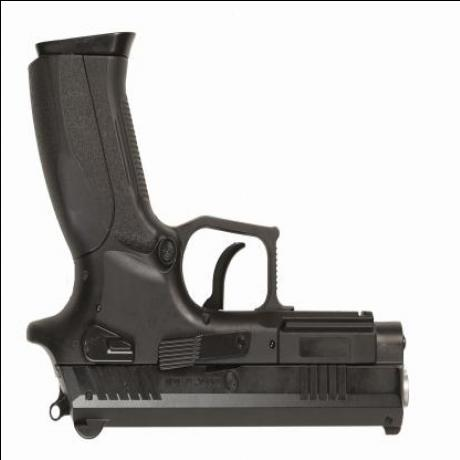weapon: (21, 28, 422, 444)
